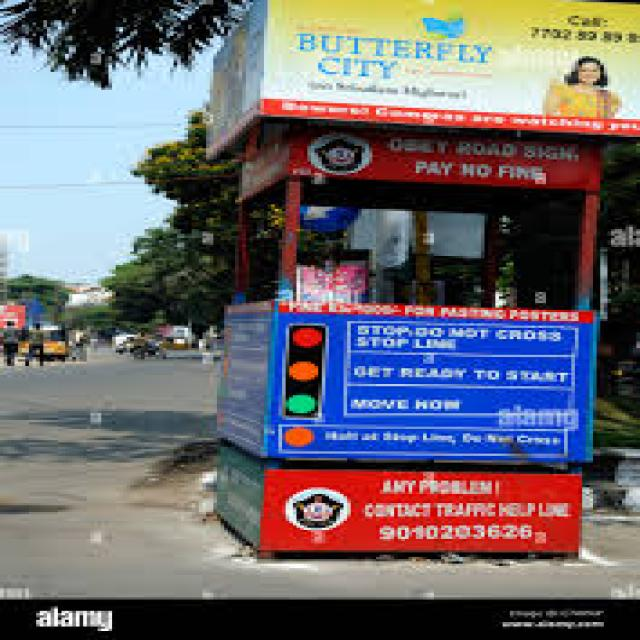barrier ahead at: (223, 139, 600, 563)
